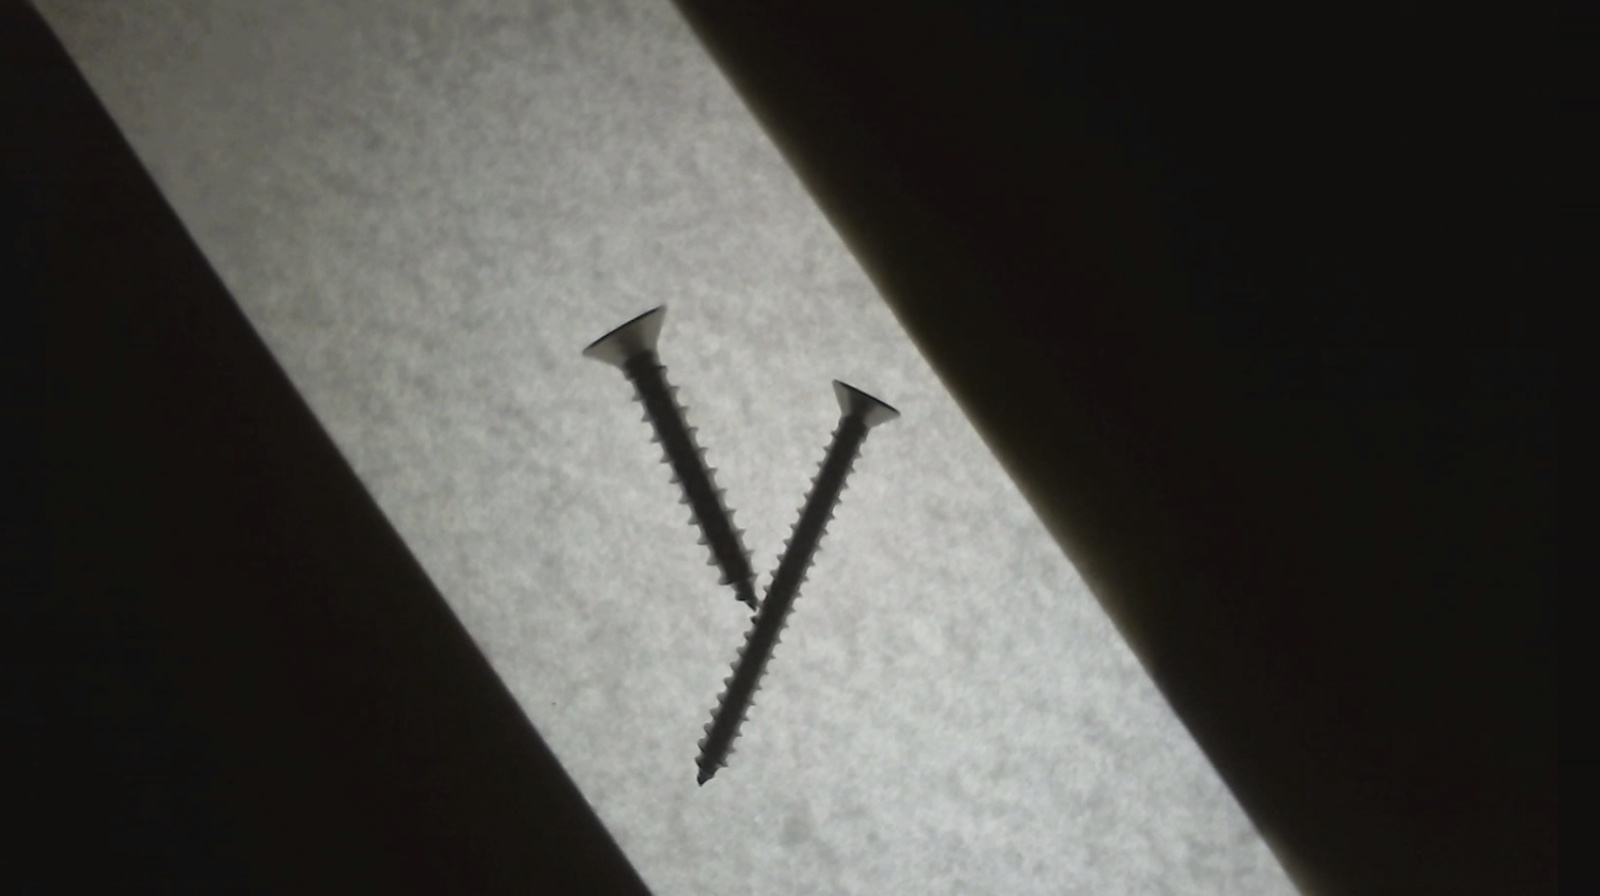S001: (578, 300, 769, 610)
S002: (684, 370, 901, 788)
